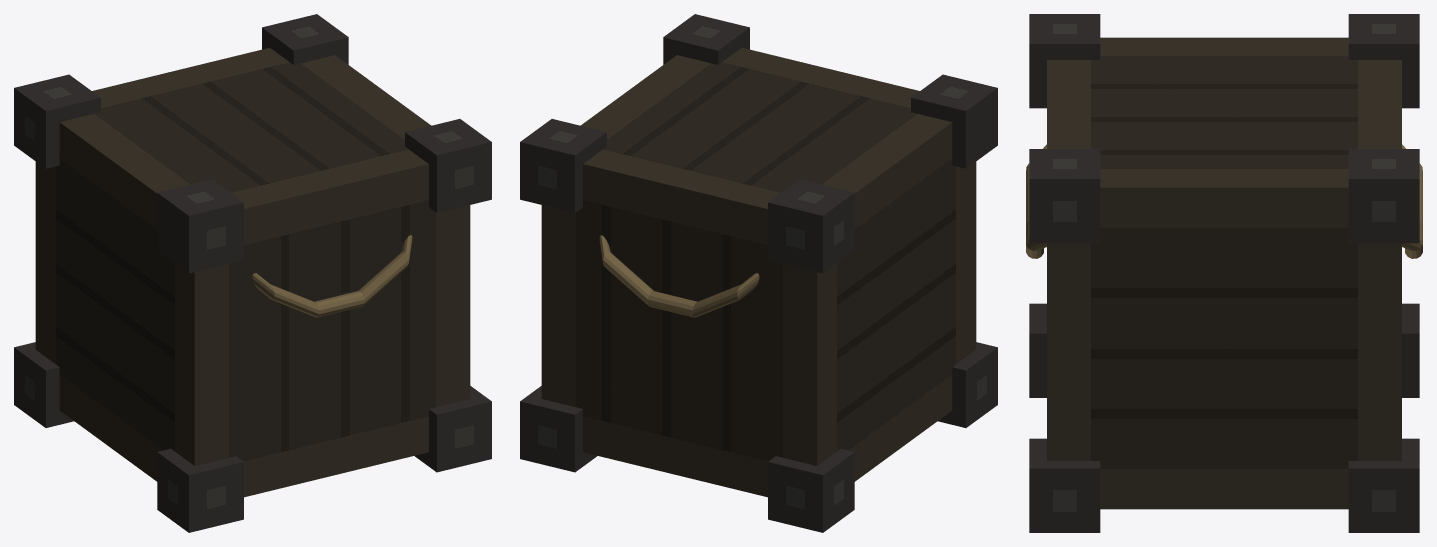
File: Crate.gltf
The picture shows the model from 3 angles, left to right: view 1: azimuth 30°, elevation 25°; view 2: azimuth 150°, elevation 25°; view 3: azimuth 270°, elevation 25°; orthographic projection. The views are drawn at different scales.
Parts seen in each view (by area): view 1: mesh (×8), cylinder; view 2: mesh (×8), cylinder; view 3: mesh (×9), cylinder (×2).
Part boxes in pixels (box(x1,y1,x2,y2)): mesh (×8): box(14, 14, 491, 532); cylinder: box(252, 235, 412, 317); mesh (×8): box(520, 14, 997, 532); cylinder: box(599, 235, 759, 317); mesh (×9): box(1029, 14, 1419, 532); cylinder (×2): box(1026, 144, 1422, 258).
Size of the model in its own units: 0.1375 by 0.1375 by 0.1397.
1 material, 1 textured.
